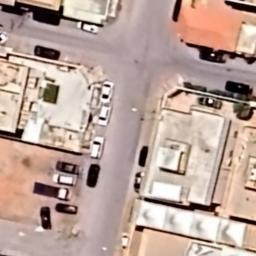SUV: (99, 81, 114, 104), (98, 104, 112, 126)
sedan: (34, 46, 61, 60), (86, 164, 100, 188), (56, 161, 80, 174), (40, 206, 52, 230), (56, 204, 78, 214), (139, 146, 148, 167), (134, 171, 142, 191), (122, 232, 128, 248)
truck: (33, 182, 69, 200), (77, 22, 99, 34)
van: (226, 80, 254, 94), (91, 136, 104, 158), (53, 175, 74, 185)
